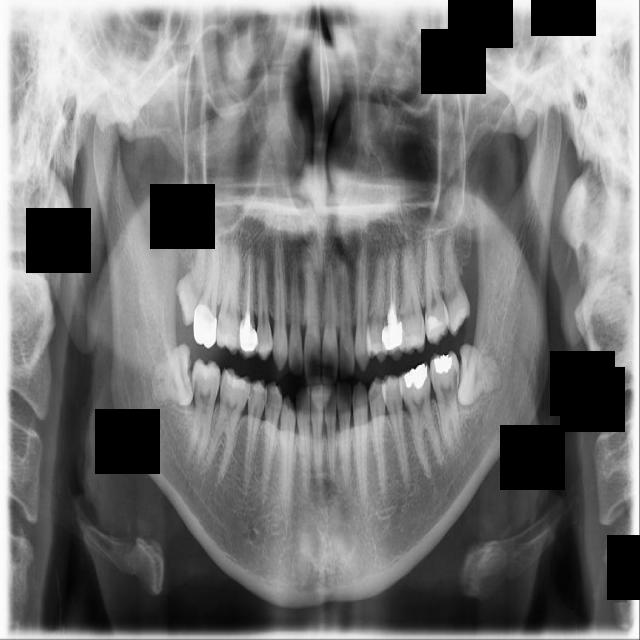3M ESPE Implant: (170, 225, 212, 325)
52: (391, 359, 443, 411), (428, 351, 460, 390), (192, 303, 218, 350), (379, 320, 405, 362), (426, 301, 448, 343), (238, 320, 258, 356)
73: (382, 250, 402, 327), (240, 250, 255, 328), (604, 582, 608, 594)
BioHorizons Implant: (423, 228, 449, 343)
BioLife Implant: (422, 231, 478, 340)
Biomet 3i Implant: (455, 344, 505, 407)
Blue Sky Bio Implant: (428, 349, 470, 460)
Caries: (191, 234, 226, 349)
Implant: (185, 357, 222, 465)
Keystone Dental Implant: (146, 344, 196, 408)
